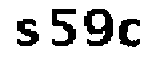5: (47, 2, 81, 50)
9: (82, 4, 116, 51)
c: (116, 16, 145, 52)
s: (12, 17, 40, 48)
